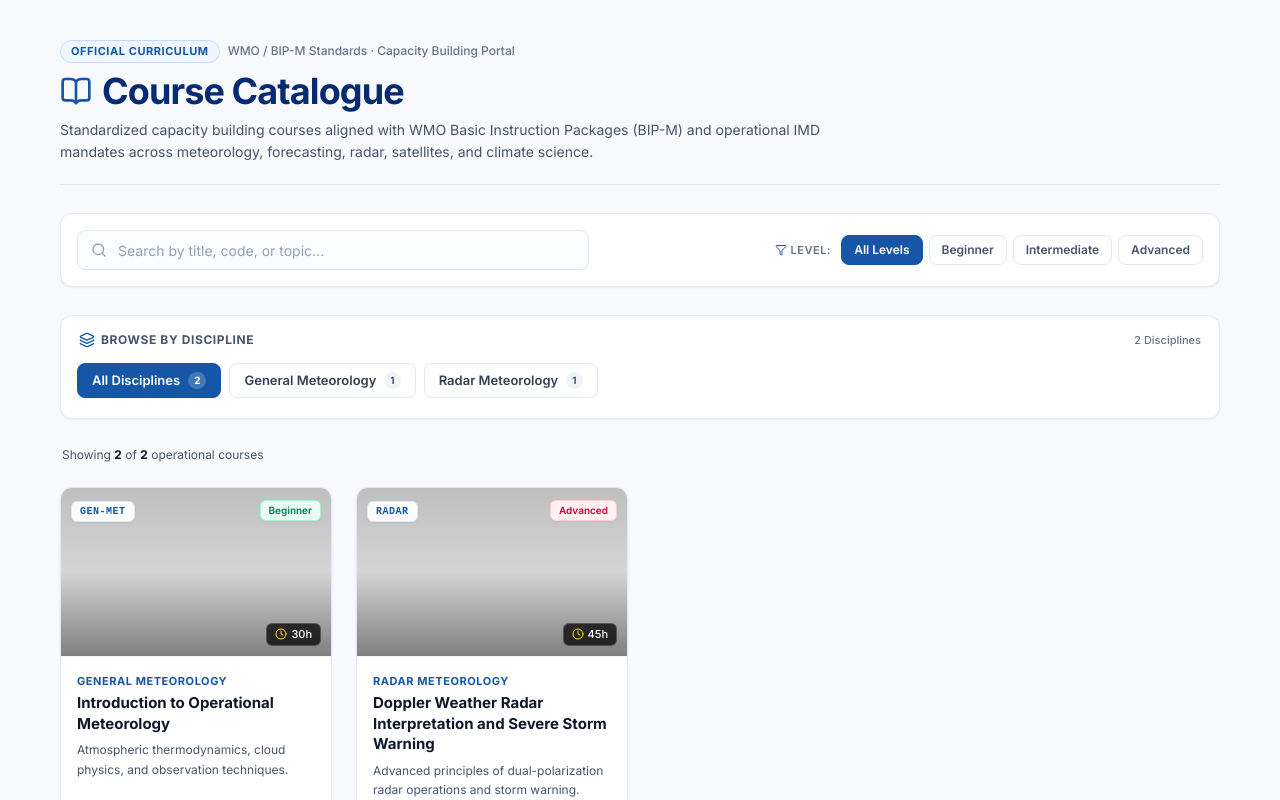
Public Course Catalogue Responsive Redesign Suite › handles category discipline tabs selection
Check: the heading "Introduction to Operational Meteorology" is shown, box x1=77 y1=693 x2=274 y2=733
Click the button "Radar Meteorology 1" at (511, 380), box x1=424 y1=362 x2=598 y2=398
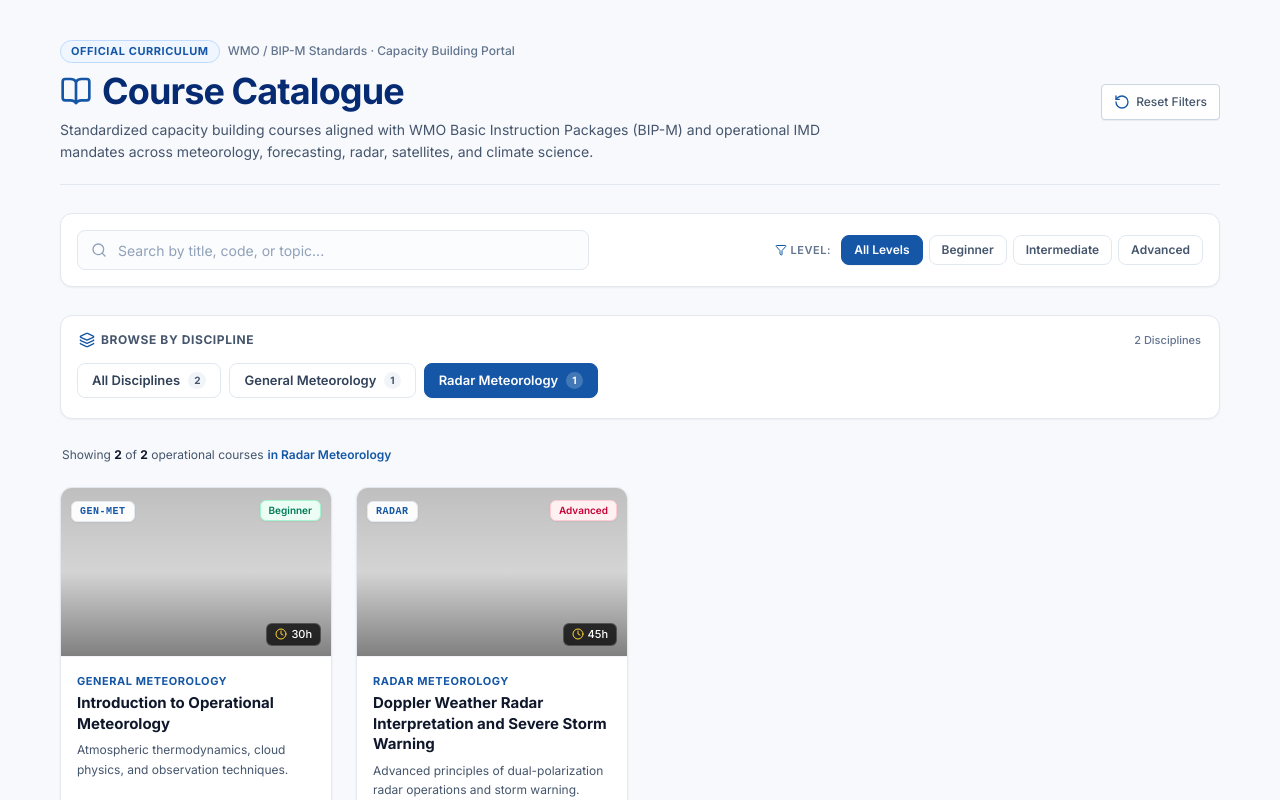
Check: the button "Reset Filters" is shown, box x1=1101 y1=84 x2=1220 y2=120
